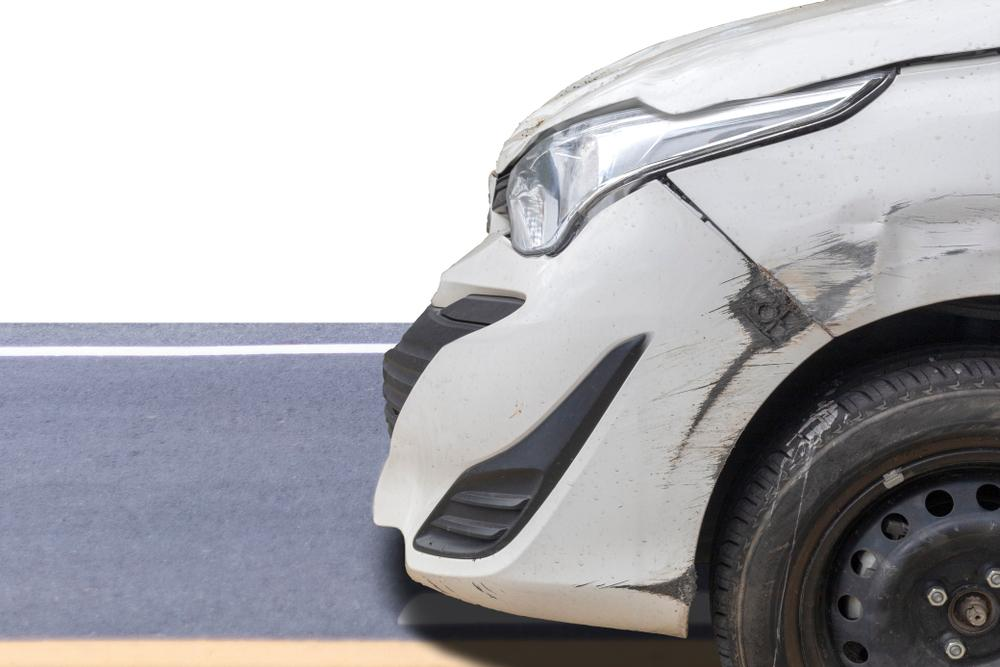dent: (873, 194, 1000, 314)
scratch: (648, 255, 821, 484), (764, 199, 894, 322), (572, 556, 701, 603)
